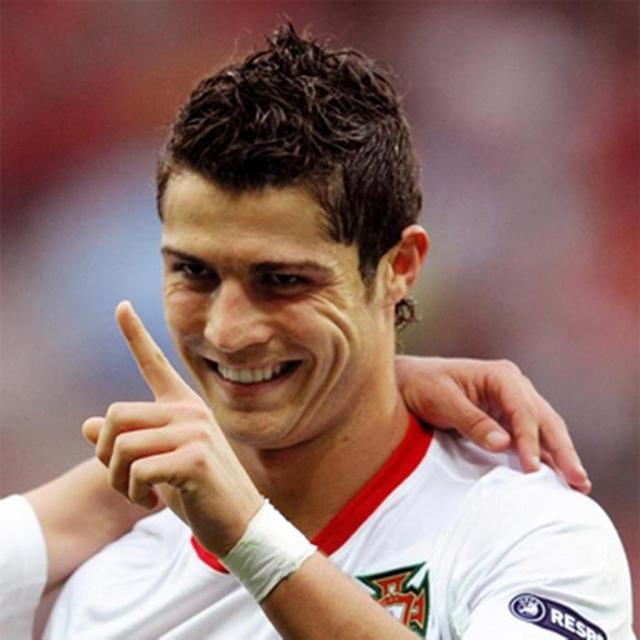Face: (161, 125, 381, 441)
